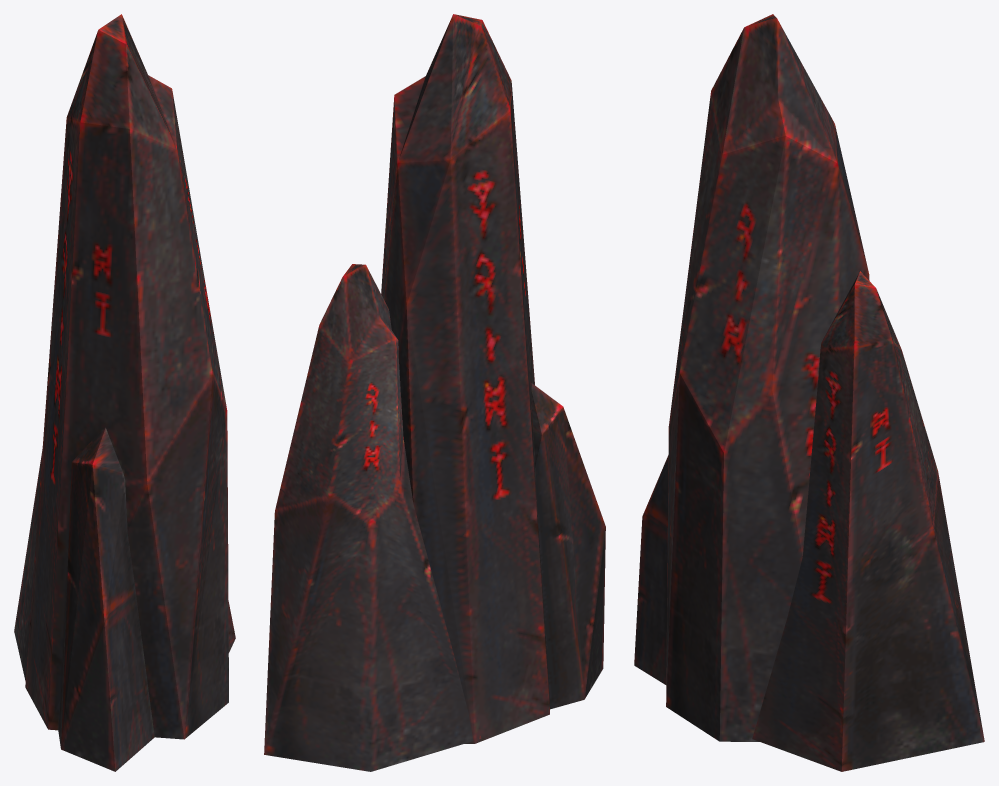
The model's file is 6002_Item_shtou_2.FBX.
The picture shows the model from 3 angles, left to right: view 1: azimuth 30°, elevation 25°; view 2: azimuth 150°, elevation 25°; view 3: azimuth 270°, elevation 25°; orthographic projection.
Visible parts, largest first — view 1: 6002_Item_shtou_2; view 2: 6002_Item_shtou_2; view 3: 6002_Item_shtou_2.
Part boxes in pixels (bbox=[...]): 6002_Item_shtou_2: bbox=[14, 14, 235, 771]; 6002_Item_shtou_2: bbox=[264, 14, 605, 771]; 6002_Item_shtou_2: bbox=[634, 14, 984, 771].
Size of the model in its own units: 128 by 348 by 161.
